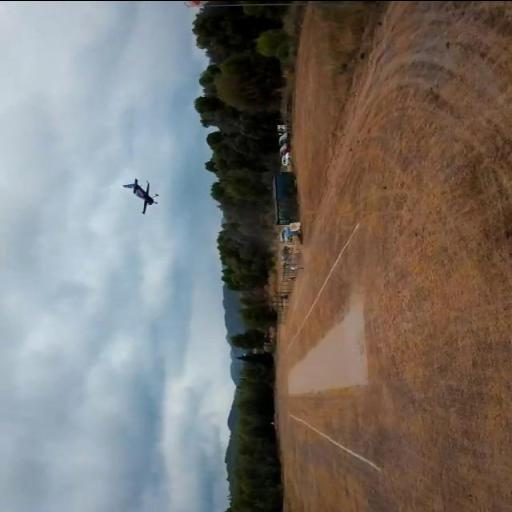uav: (122, 177, 164, 214)
